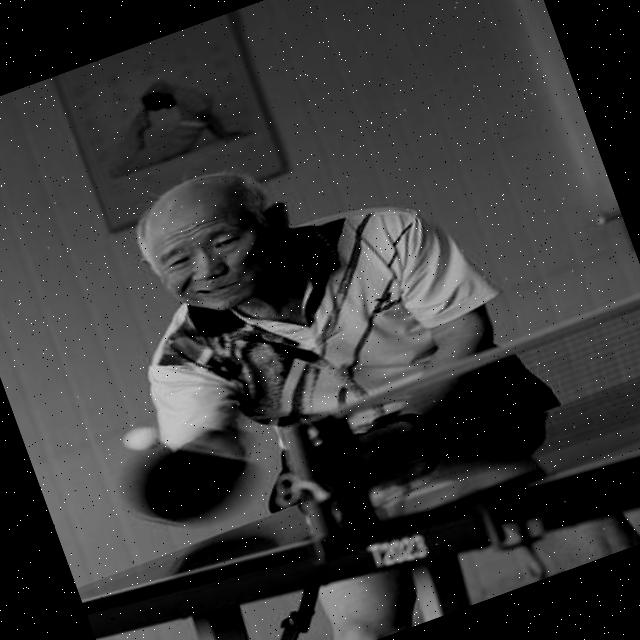ping-pong-ball: (118, 421, 162, 456)
